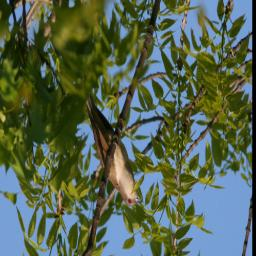Cuckoo: (84, 91, 142, 207)
